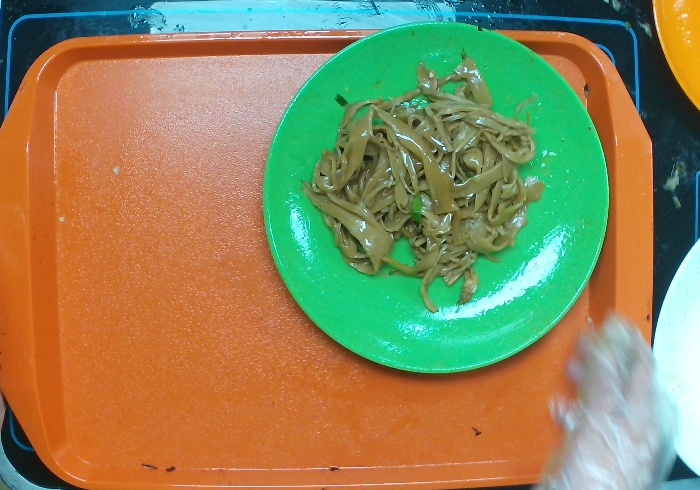HZYJPL-Lv_Se_Yuan_Pan: (247, 9, 620, 386)
